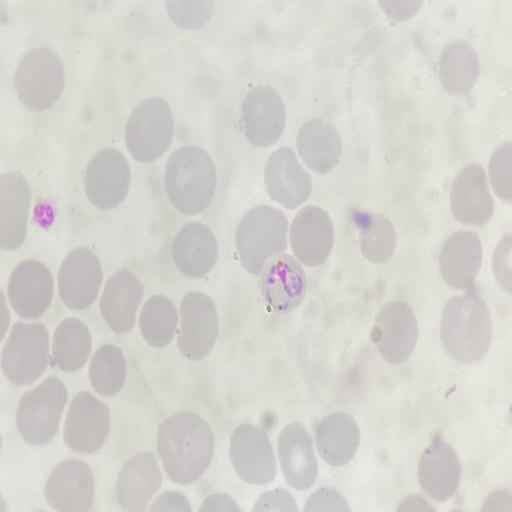Infected: (259, 250, 310, 314)
Uninfected: (158, 413, 216, 484), (16, 377, 69, 446), (164, 145, 217, 213), (237, 206, 288, 276), (124, 96, 174, 165), (440, 295, 492, 360), (13, 44, 64, 110), (264, 145, 315, 207), (176, 289, 220, 360), (416, 437, 464, 502), (60, 393, 110, 454), (371, 298, 417, 364), (229, 423, 277, 485), (3, 323, 50, 385), (450, 160, 494, 225), (60, 246, 104, 311), (242, 86, 290, 145), (113, 453, 161, 512), (102, 267, 144, 334), (8, 258, 54, 319), (84, 149, 130, 209), (42, 457, 92, 512), (280, 419, 318, 491), (290, 205, 335, 265), (173, 221, 218, 279), (316, 410, 361, 468), (296, 118, 343, 173), (437, 41, 481, 98), (438, 231, 484, 284), (138, 295, 179, 348), (51, 317, 91, 371), (89, 344, 129, 397), (359, 214, 400, 262)
